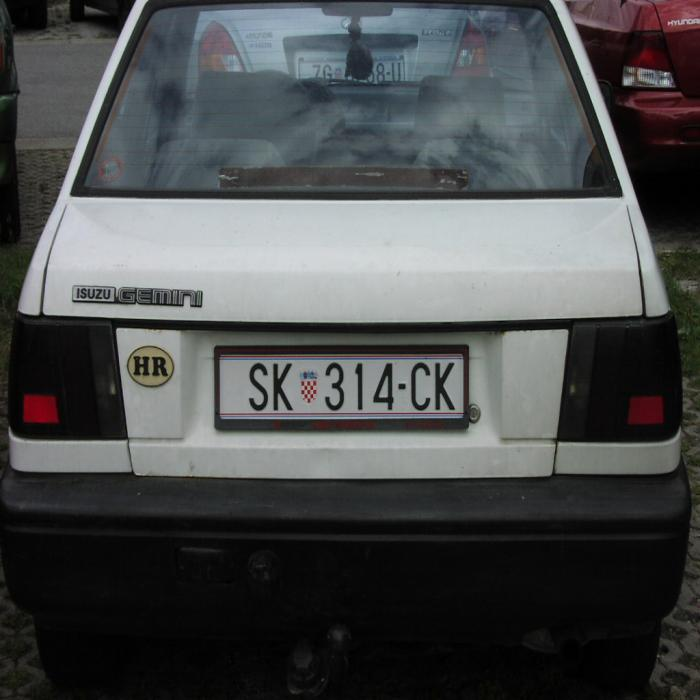number_plate: (218, 354, 464, 416)
